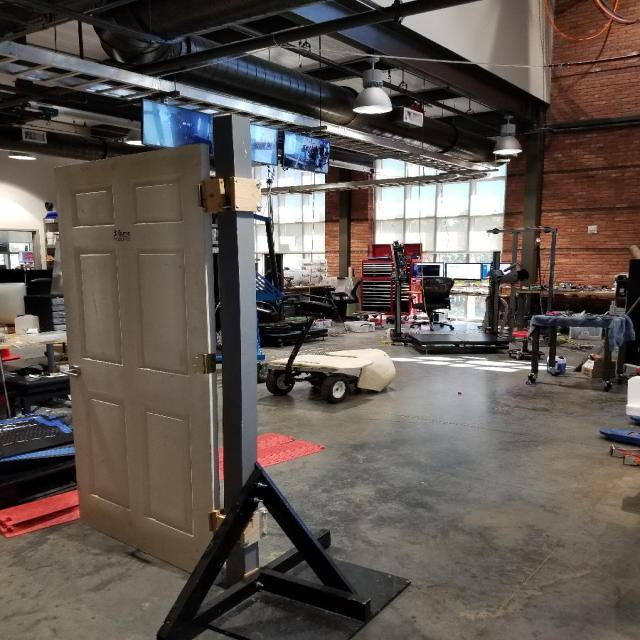door: (46, 139, 224, 584), (57, 363, 94, 378)
